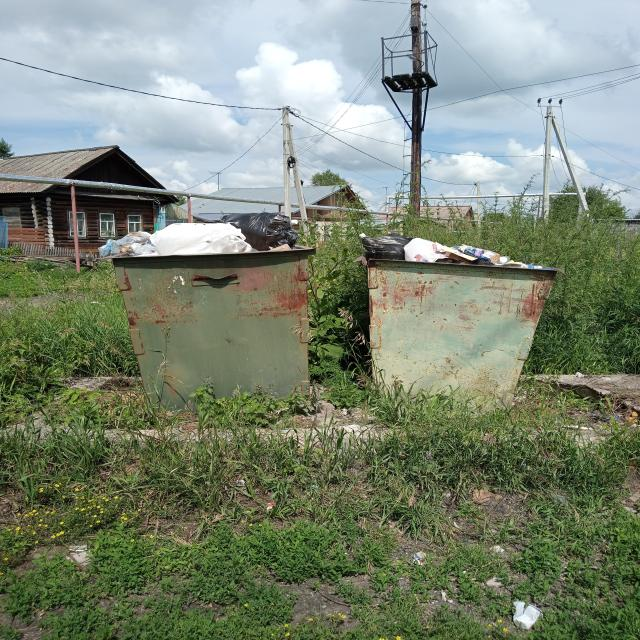bin: (101, 259, 321, 405), (359, 271, 560, 408)
trash: (101, 209, 305, 258), (356, 223, 555, 269)
